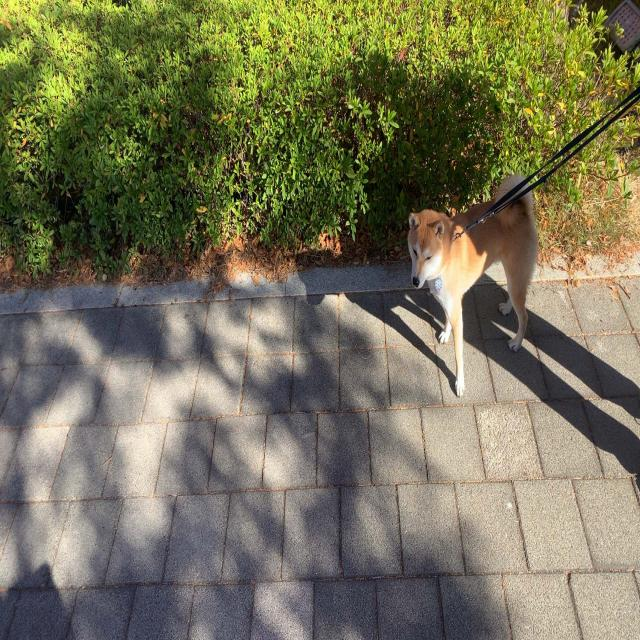Dog: (407, 173, 539, 400)
